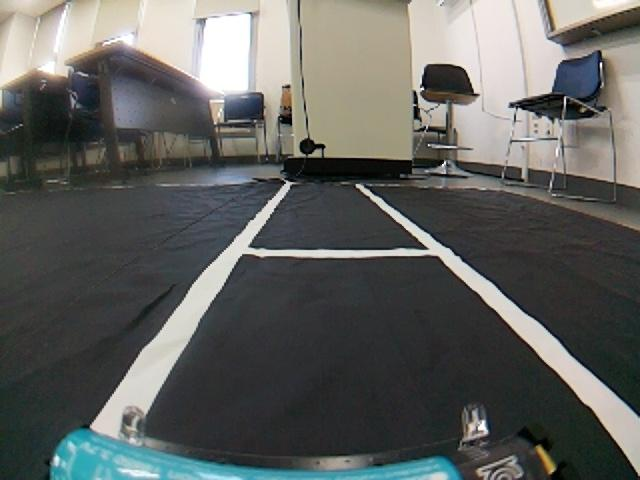straight: (5, 204, 640, 480)
